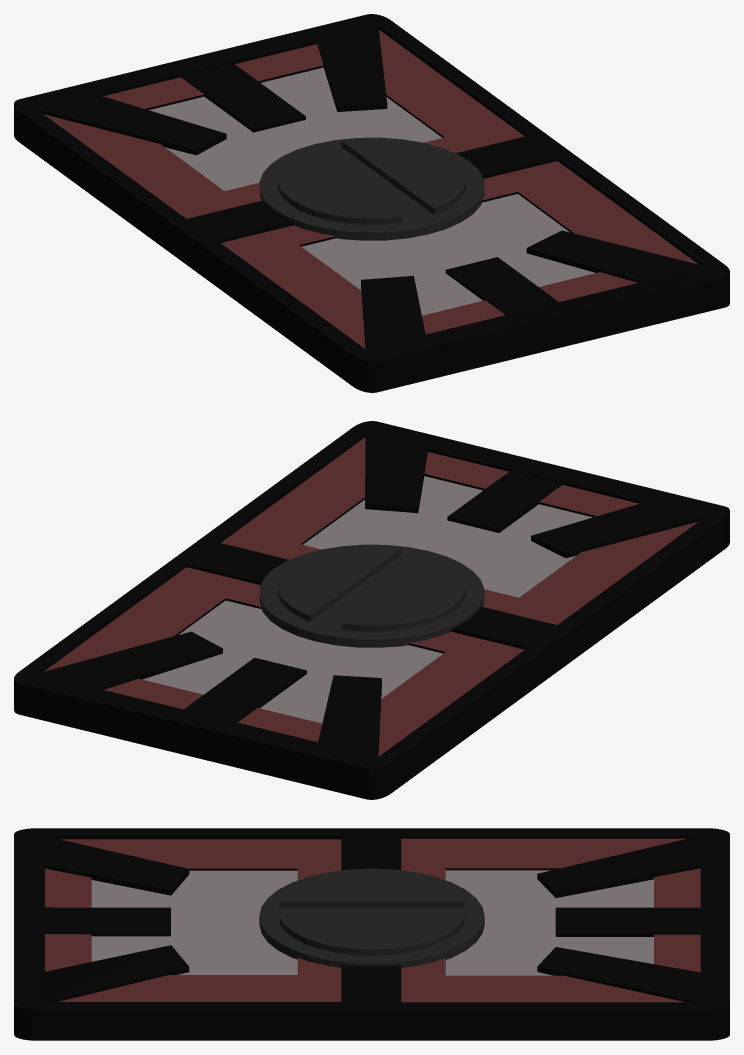
Rendered from Magnetic Keycard.fbx.
3 renders of one model, top to bottom at view 1: azimuth 30°, elevation 25°; view 2: azimuth 150°, elevation 25°; view 3: azimuth 270°, elevation 25°, orthographic.
Visible parts, largest first — view 1: Cube; view 2: Cube; view 3: Cube.
Boxes of the visible parts, <box> form: Cube: <box>14,14,729,392</box>; Cube: <box>14,421,729,799</box>; Cube: <box>14,828,729,1040</box>.
Bounding box in the file's own units: 9 × 0.9299 × 15.
